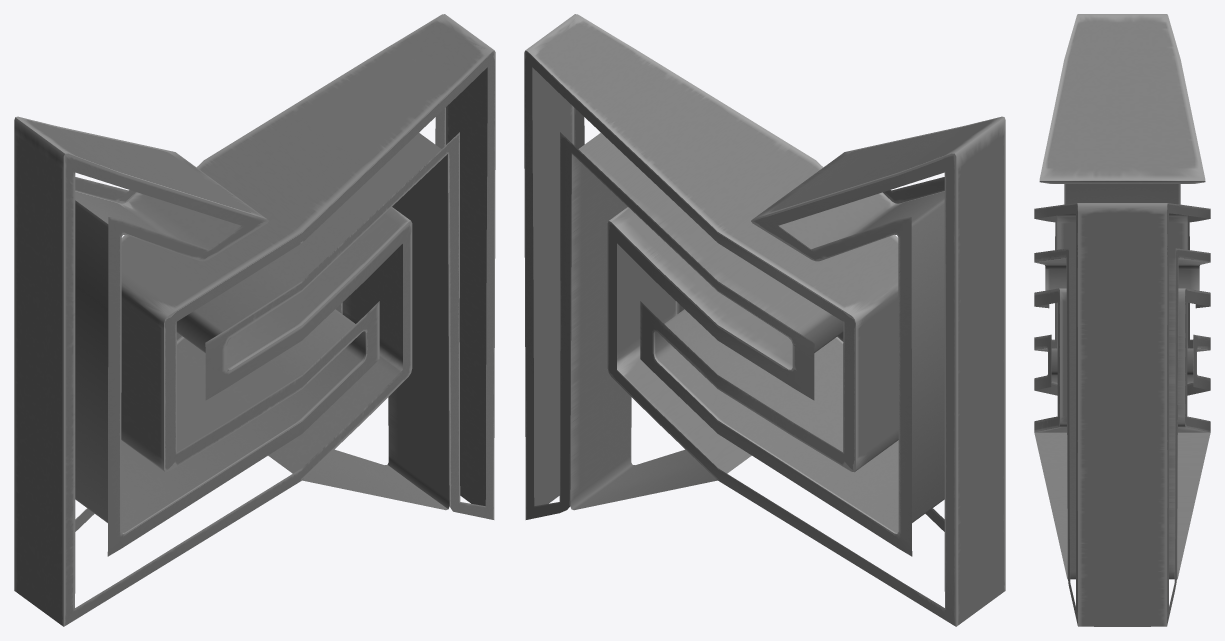
The model's file is SUPERM_02.glb.
The picture shows the model from 3 angles, left to right: view 1: azimuth 30°, elevation 25°; view 2: azimuth 150°, elevation 25°; view 3: azimuth 270°, elevation 25°; orthographic projection. The views are drawn at different scales.
Size of the model in its own units: 0.1425 by 0.1491 by 0.056.
Materials: 1 (1 with a texture image).
